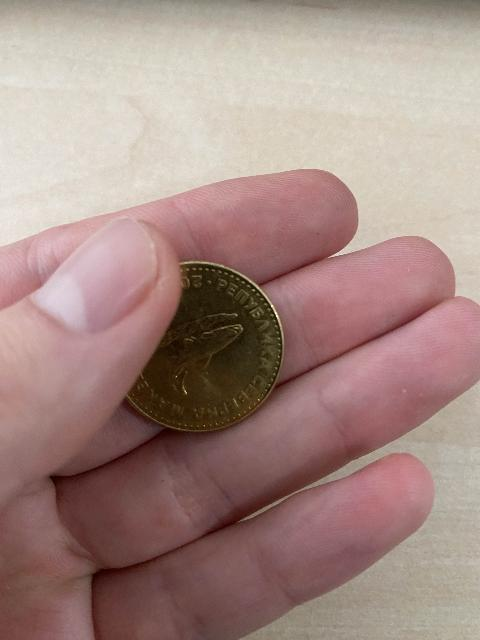2_coin: (127, 262, 283, 431)
